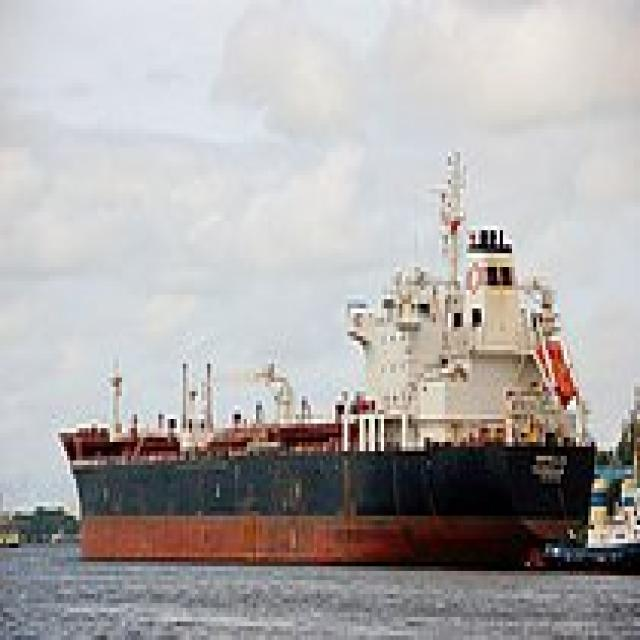Tanker: (52, 138, 597, 562)
